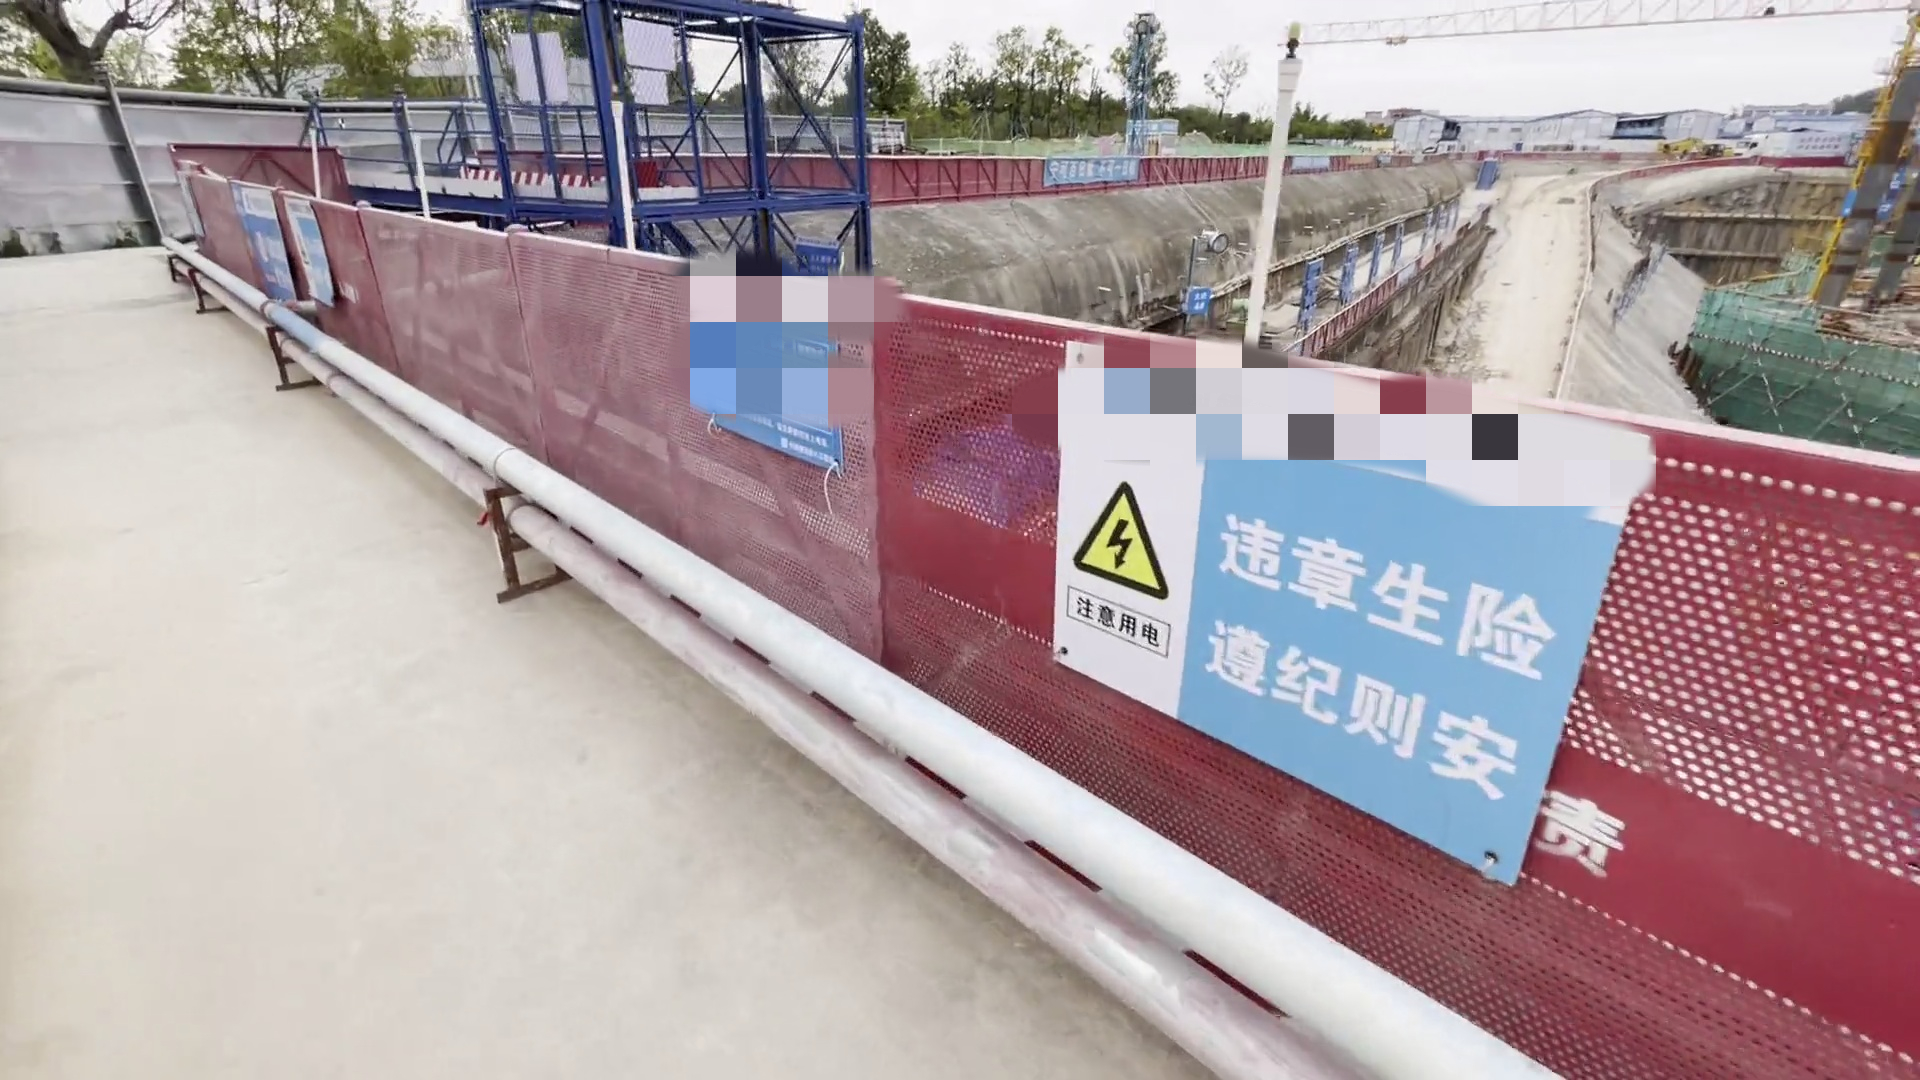fence: (123, 194, 1861, 1044), (691, 132, 1425, 193)
slogan: (1039, 320, 1582, 845), (215, 171, 389, 351), (1046, 148, 1158, 193)
